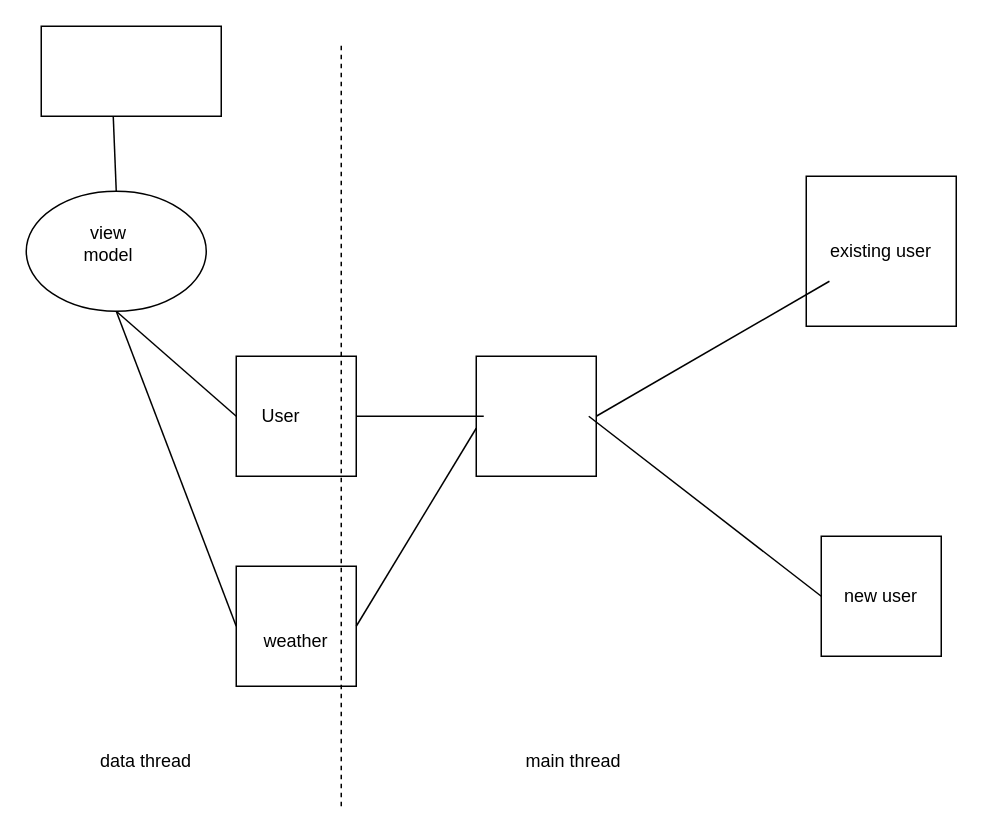
Some shapes in this 998 by 834 pixel diagram are drawn without their labels. Each missing label, with the centre of its shape:
DashBoard: point 535,415
database: point 130,70
